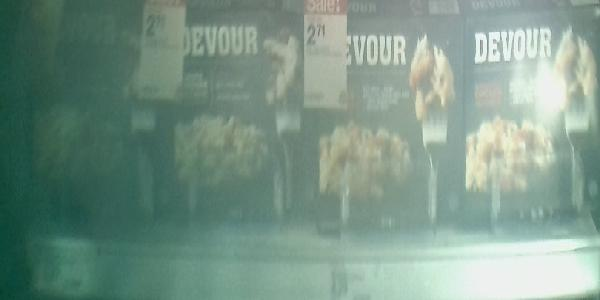pizza1: (134, 14, 307, 234), (307, 14, 458, 236), (458, 12, 600, 236)
